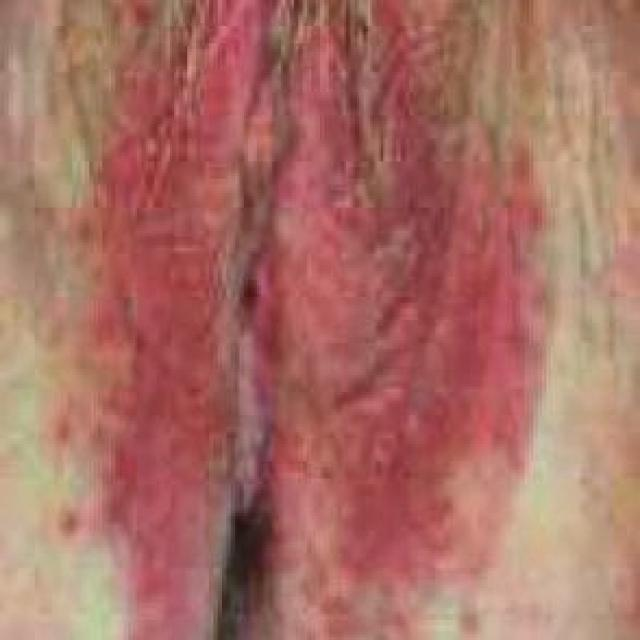Tinea Ringworm Candidiasis and other Fungal Infections: (68, 9, 529, 595)
